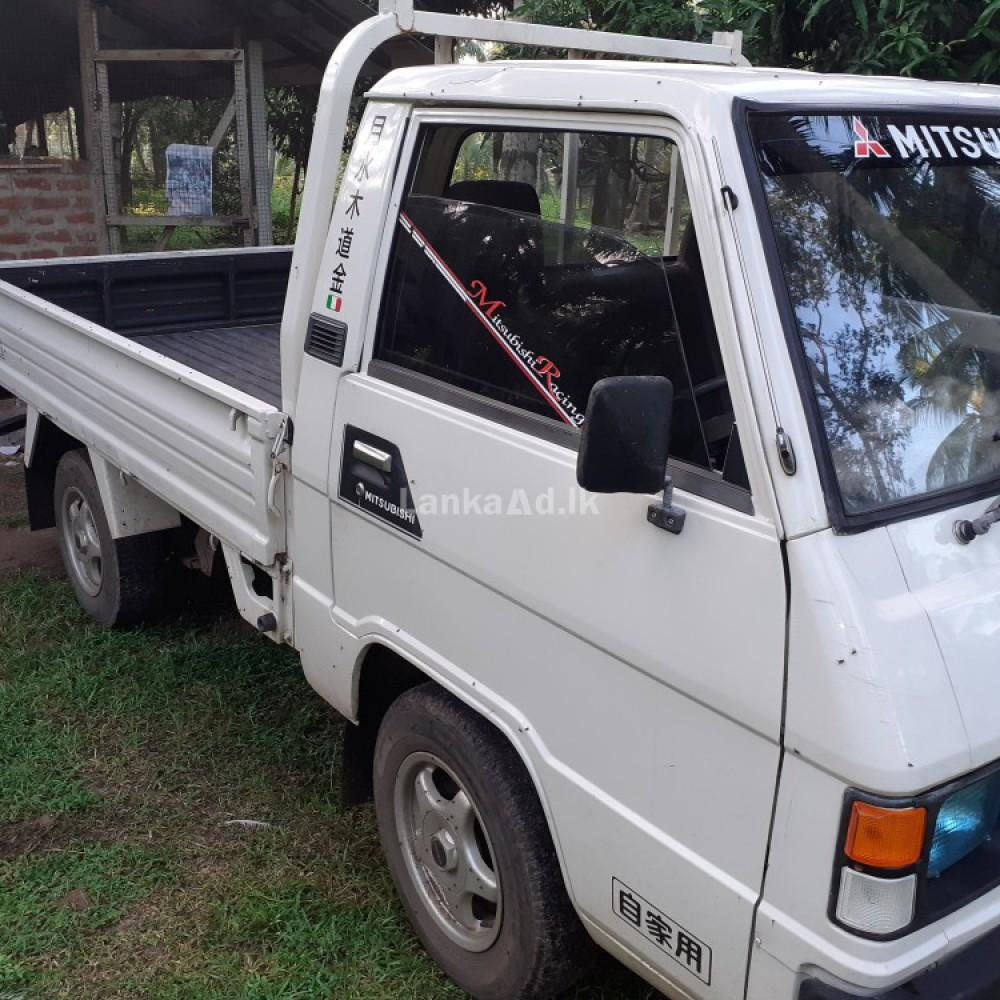truck: (1, 1, 1000, 1000)
